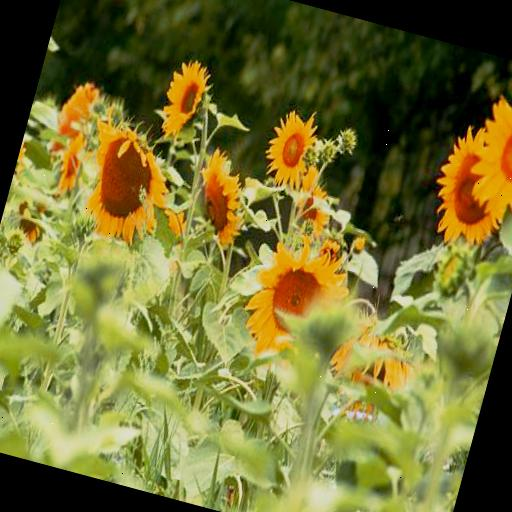sunflower: (234, 226, 358, 376), (69, 114, 184, 252), (423, 123, 512, 252), (184, 142, 260, 250), (260, 104, 324, 191), (153, 56, 213, 142)
